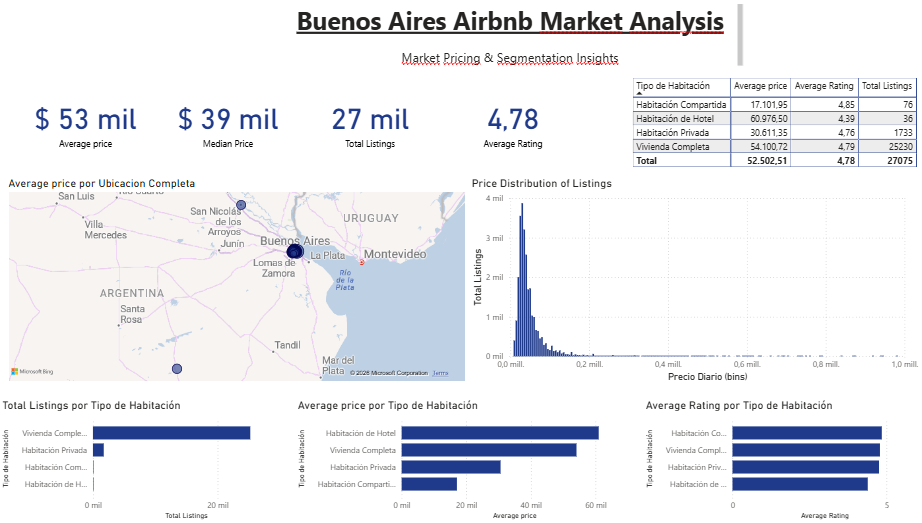

What the dashboard file says about the page in this screenshot:
{"tool":"powerbi","page":{"name":"Página 1","canvas":[1400,800],"ordinal":0},"visuals":[{"type":"card","fields":{"Values":["25 11_Base_de_Datos_-_AirBnB.Average price"]},"box":[22,144.7,215.9,90.9],"z":0},{"type":"card","fields":{"Values":["25 11_Base_de_Datos_-_AirBnB.Average Rating"]},"box":[669.7,144.7,215.9,90.9],"z":1000},{"type":"card","fields":{"Values":["25 11_Base_de_Datos_-_AirBnB.Median Price"]},"box":[237.9,144.7,215.9,90.9],"z":2000},{"type":"card","fields":{"Values":["25 11_Base_de_Datos_-_AirBnB.Total Listings"]},"box":[453.8,144.7,215,90.9],"z":3000},{"type":"columnChart","title":"Price Distribution of Listings","fields":{"Category":["25 11_Base_de_Datos_-_AirBnB.Precio Diario (ubicaciones)"],"Y":["25 11_Base_de_Datos_-_AirBnB.Total Listings"]},"box":[711.4,272.7,688.6,315.9],"z":4000},{"type":"barChart","fields":{"Category":["25 11_Base_de_Datos_-_AirBnB.Tipo de Habitación"],"Y":["25 11_Base_de_Datos_-_AirBnB.Average price"]},"box":[447.5,610.2,526.8,189.2],"z":5000},{"type":"barChart","fields":{"Category":["25 11_Base_de_Datos_-_AirBnB.Tipo de Habitación"],"Y":["25 11_Base_de_Datos_-_AirBnB.Total Listings"]},"box":[0,610.2,447.5,189.2],"z":6000},{"type":"barChart","fields":{"Category":["25 11_Base_de_Datos_-_AirBnB.Tipo de Habitación"],"Y":["25 11_Base_de_Datos_-_AirBnB.Average Rating"]},"box":[974.2,610.2,425.1,189.2],"z":7000},{"type":"pivotTable","fields":{"Rows":["25 11_Base_de_Datos_-_AirBnB.Tipo de Habitación"],"Values":["25 11_Base_de_Datos_-_AirBnB.Average price","25 11_Base_de_Datos_-_AirBnB.Average Rating","25 11_Base_de_Datos_-_AirBnB.Total Listings"]},"box":[954.5,118.2,445.5,154.5],"z":8000},{"type":"map","fields":{"Size":["25 11_Base_de_Datos_-_AirBnB.Average price"],"Category":["25 11_Base_de_Datos_-_AirBnB.Ubicacion Completa"]},"box":[9.1,272.7,702.3,315.9],"z":8001},{"type":"textbox","box":[425,6.8,706.8,111.4],"z":8002}]}

Visuals, with their boxes in screenshot pixels (x1, y1, x2, y2), scaled from the page's 1400x800 canvas onto the 922x523 screenshot:
card - 25 11_Base_de_Datos_-_AirBnB.Average price: 14, 95, 157, 154
card - 25 11_Base_de_Datos_-_AirBnB.Average Rating: 441, 95, 583, 154
card - 25 11_Base_de_Datos_-_AirBnB.Median Price: 157, 95, 299, 154
card - 25 11_Base_de_Datos_-_AirBnB.Total Listings: 299, 95, 440, 154
"Price Distribution of Listings" columnChart: 469, 178, 921, 385
barChart - 25 11_Base_de_Datos_-_AirBnB.Tipo de Habitación x 25 11_Base_de_Datos_-_AirBnB.Average price: 295, 399, 642, 522
barChart - 25 11_Base_de_Datos_-_AirBnB.Tipo de Habitación x 25 11_Base_de_Datos_-_AirBnB.Total Listings: 0, 399, 295, 522
barChart - 25 11_Base_de_Datos_-_AirBnB.Tipo de Habitación x 25 11_Base_de_Datos_-_AirBnB.Average Rating: 642, 399, 921, 522
pivotTable - 25 11_Base_de_Datos_-_AirBnB.Tipo de Habitación x 25 11_Base_de_Datos_-_AirBnB.Average price: 629, 77, 921, 178
map - 25 11_Base_de_Datos_-_AirBnB.Average price x 25 11_Base_de_Datos_-_AirBnB.Ubicacion Completa: 6, 178, 469, 385
textbox: 280, 4, 745, 77
